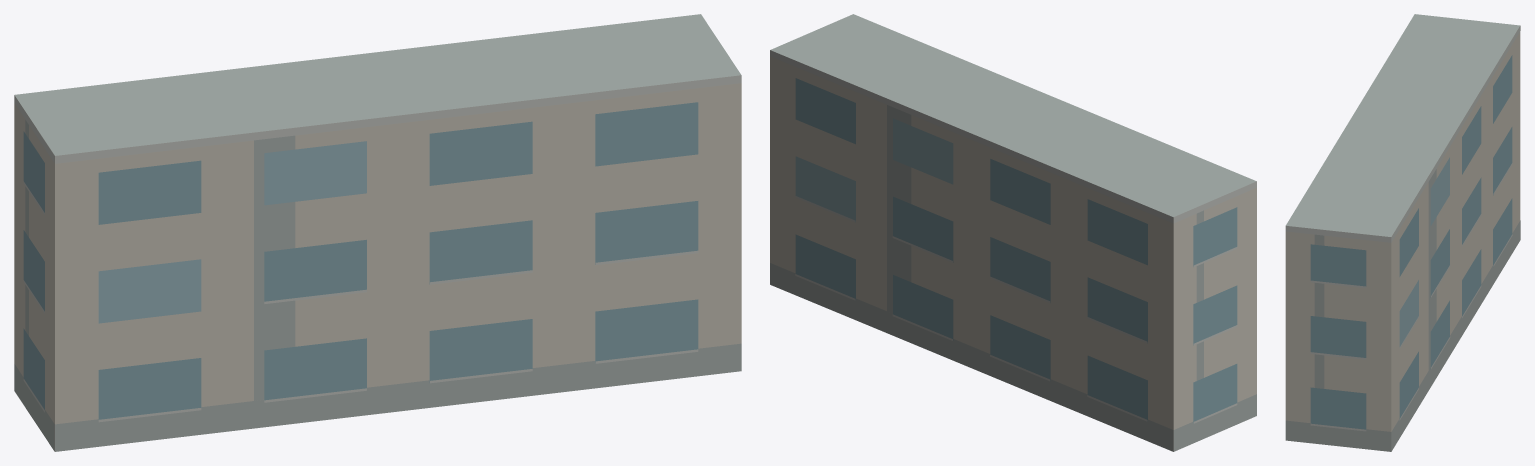
File: survey-upis-32745711.glb
3 views of the same model, side by side, from view 1: azimuth 30°, elevation 25°; view 2: azimuth 150°, elevation 25°; view 3: azimuth 270°, elevation 25° (orthographic). The views are drawn at different scales.
Visible parts, largest first — view 1: survey-upis-32745711.tmp; view 2: survey-upis-32745711.tmp; view 3: survey-upis-32745711.tmp.
Boxes of the visible parts, bbox=[...] form: survey-upis-32745711.tmp: bbox=[14, 14, 741, 451]; survey-upis-32745711.tmp: bbox=[770, 14, 1256, 451]; survey-upis-32745711.tmp: bbox=[1285, 14, 1520, 451].
Bounding box in the file's own units: 20.4 × 9.15 × 9.07.
